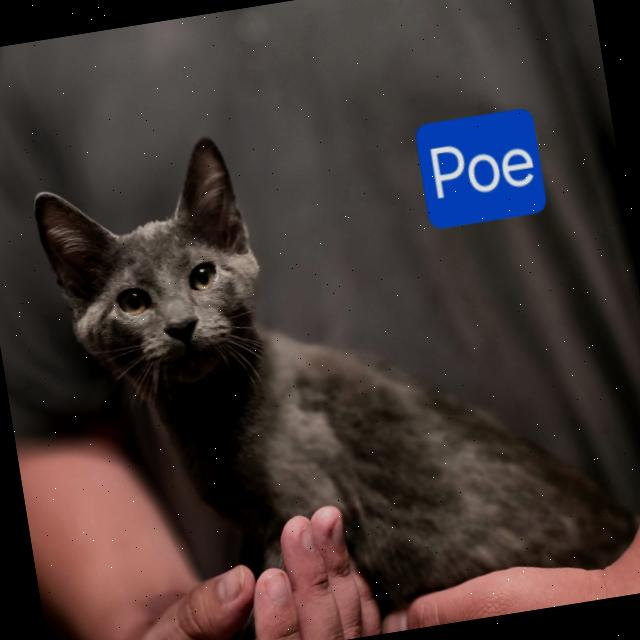russian_blue_cat: (20, 122, 314, 458)
